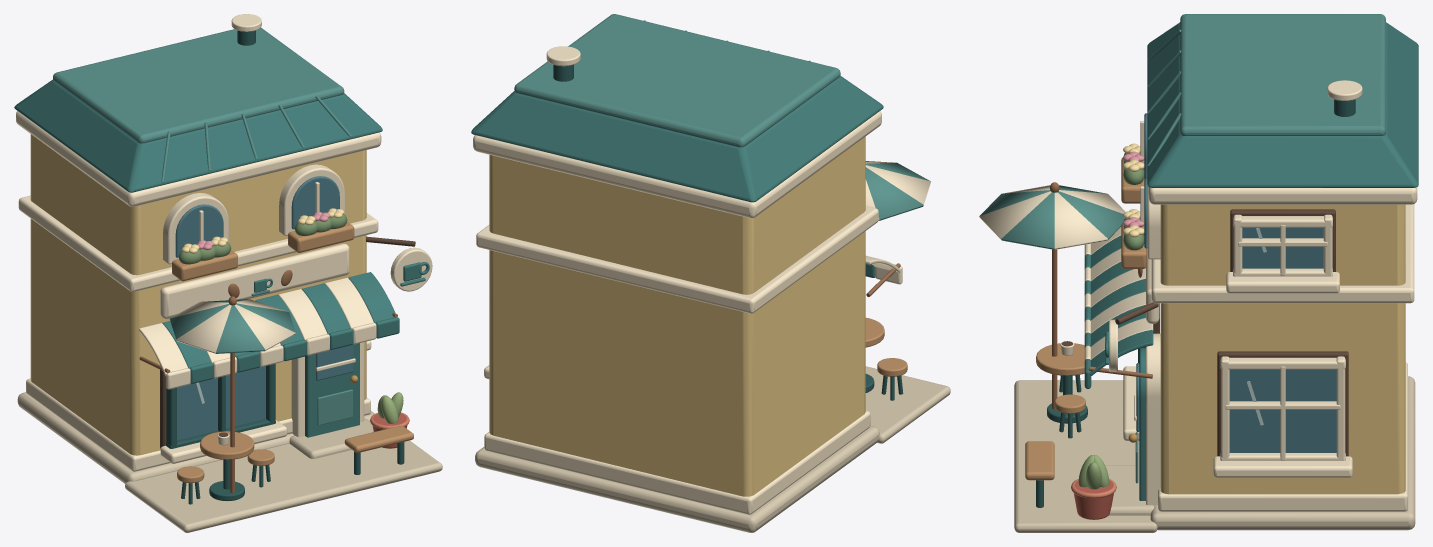
File: cafe_level_3_before.glb
3 views of the same model, side by side, from view 1: azimuth 30°, elevation 25°; view 2: azimuth 150°, elevation 25°; view 3: azimuth 270°, elevation 25° (orthographic). The views are drawn at different scales.
Visible parts, largest first — view 1: Wall • butter plaster.002, Roof • rounded crown.002, Roof • soft hipped shell.002, Terrace • patio base, Fascia • plain cream band.001, Roof • cream cornice.002, Terrace • scalloped umbrella, Window • blue glazing.004, Upper • belt cornice, Foundation • stone plinth.002, Door • teal panel.002, Wall • cream skirting.002 (+27 smaller); view 2: Wall • butter plaster.002, Roof • rounded crown.002, Roof • soft hipped shell.002, Foundation • stone plinth.002, Upper • belt cornice, Wall • cream skirting.002, Roof • cream cornice.002, Terrace • patio base, Terrace • scalloped umbrella, Roof • vent cap; view 3: Wall • butter plaster.002, Roof • rounded crown.002, Roof • soft hipped shell.002, Terrace • patio base, Window • blue glazing.005, Terrace • scalloped umbrella, Foundation • stone plinth.002, Upper • belt cornice, Wall • cream skirting.002, Roof • cream cornice.002, Window • blue glazing.006, Window • deep sill.005 (+31 smaller).
Part boxes in pixels (bbox=[...]): Wall • butter plaster.002: bbox=[30, 134, 366, 455]; Roof • rounded crown.002: bbox=[53, 28, 344, 143]; Roof • soft hipped shell.002: bbox=[14, 79, 382, 192]; Terrace • patio base: bbox=[125, 440, 442, 532]; Fascia • plain cream band.001: bbox=[160, 243, 349, 318]; Roof • cream cornice.002: bbox=[16, 111, 381, 206]; Terrace • scalloped umbrella: bbox=[170, 299, 295, 353]; Window • blue glazing.004: bbox=[177, 366, 265, 440]; Upper • belt cornice: bbox=[18, 195, 378, 291]; Foundation • stone plinth.002: bbox=[17, 392, 374, 483]; Door • teal panel.002: bbox=[305, 343, 359, 437]; Wall • cream skirting.002: bbox=[26, 378, 370, 471]; Wall • butter plaster.002: bbox=[489, 136, 865, 496]; Roof • rounded crown.002: bbox=[514, 14, 840, 147]; Roof • soft hipped shell.002: bbox=[471, 76, 883, 202]; Foundation • stone plinth.002: bbox=[475, 425, 879, 532]; Upper • belt cornice: bbox=[476, 206, 878, 313]; Wall • cream skirting.002: bbox=[484, 410, 870, 514]; Roof • cream cornice.002: bbox=[473, 111, 881, 218]; Terrace • patio base: bbox=[865, 366, 950, 443]; Terrace • scalloped umbrella: bbox=[865, 161, 930, 220]; Roof • vent cap: bbox=[546, 46, 580, 66]; Wall • butter plaster.002: bbox=[1160, 204, 1405, 494]; Roof • rounded crown.002: bbox=[1180, 14, 1385, 135]; Roof • soft hipped shell.002: bbox=[1147, 22, 1418, 187]; Terrace • patio base: bbox=[1014, 380, 1157, 532]; Window • blue glazing.005: bbox=[1229, 369, 1336, 452]; Terrace • scalloped umbrella: bbox=[979, 185, 1125, 249]; Foundation • stone plinth.002: bbox=[1150, 376, 1415, 530]; Upper • belt cornice: bbox=[1151, 204, 1414, 303]; Wall • cream skirting.002: bbox=[1158, 362, 1407, 511]; Roof • cream cornice.002: bbox=[1148, 187, 1417, 204]; Window • blue glazing.006: bbox=[1242, 228, 1323, 268]; Window • deep sill.005: bbox=[1213, 456, 1352, 477].
Bounding box in the file's own units: 3.93 × 4.69 × 4.48.
